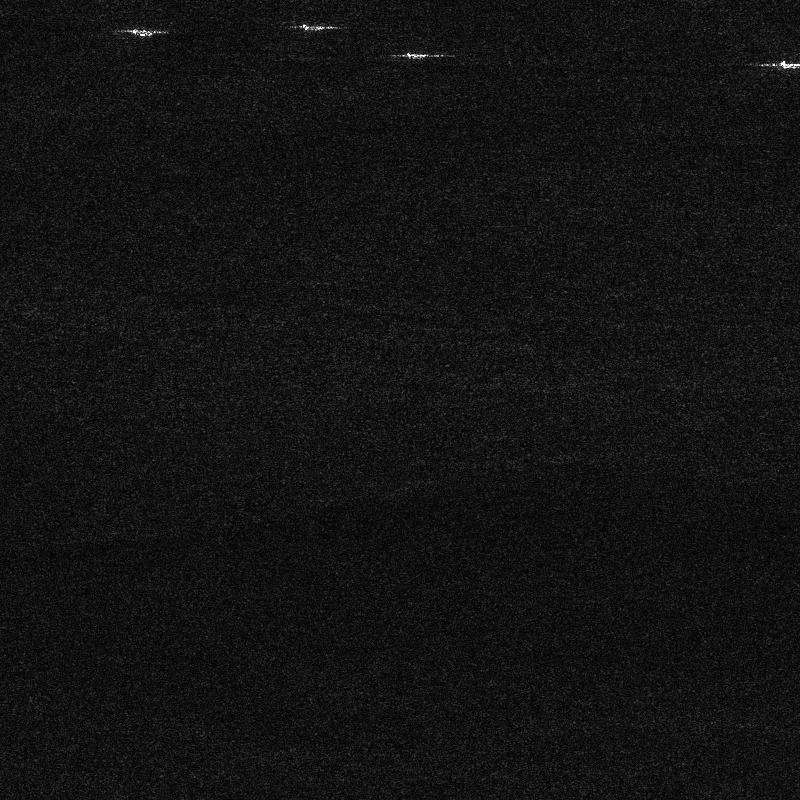ship: (301, 23, 325, 30), (779, 60, 799, 68), (132, 29, 153, 36), (406, 53, 428, 58)
